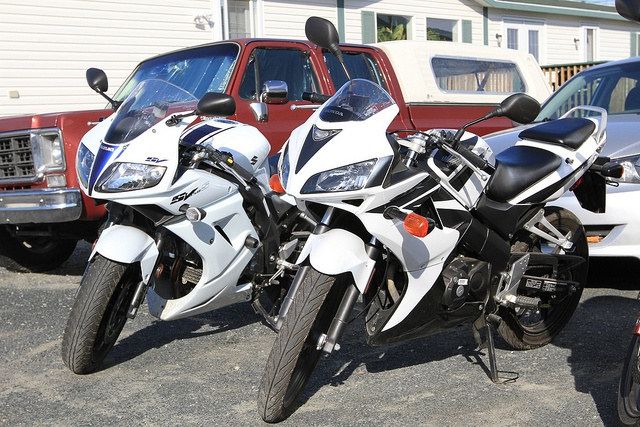non-vehicle: (255, 15, 622, 423), (60, 66, 299, 374)
